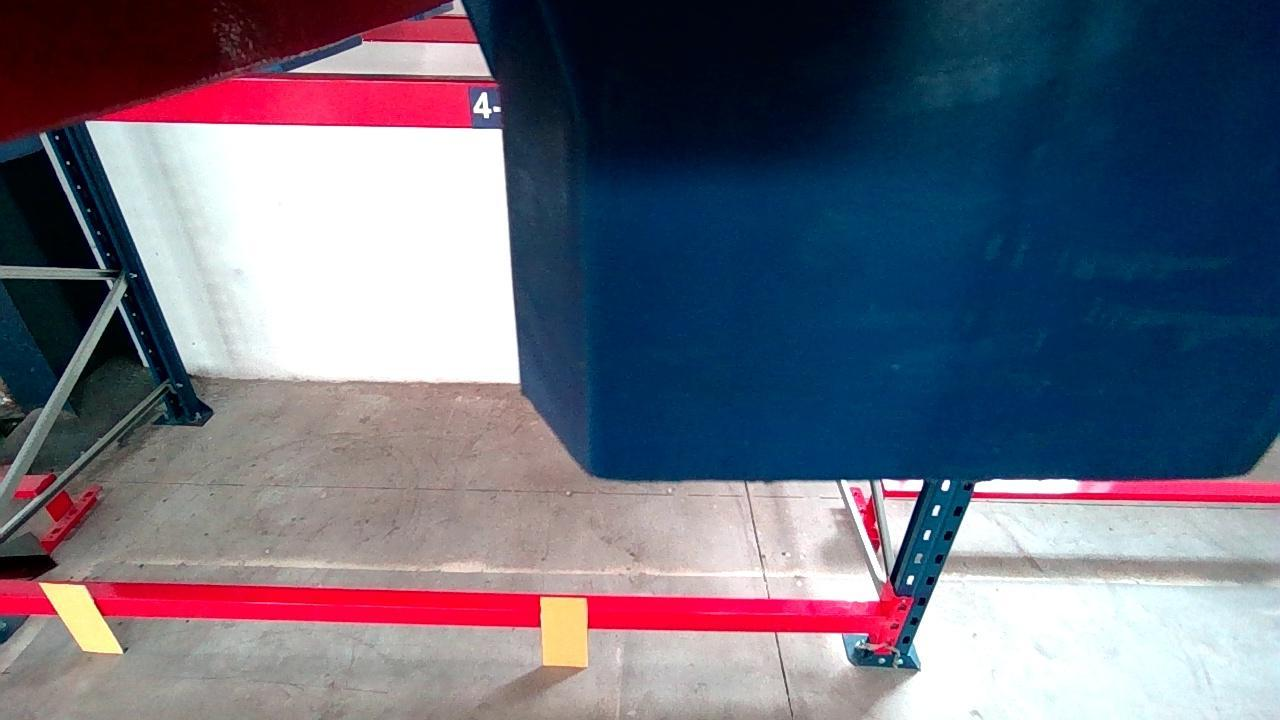h_rack: (2, 594, 879, 632), (114, 81, 498, 122)
orange_strip: (40, 583, 122, 650), (540, 596, 588, 665)
